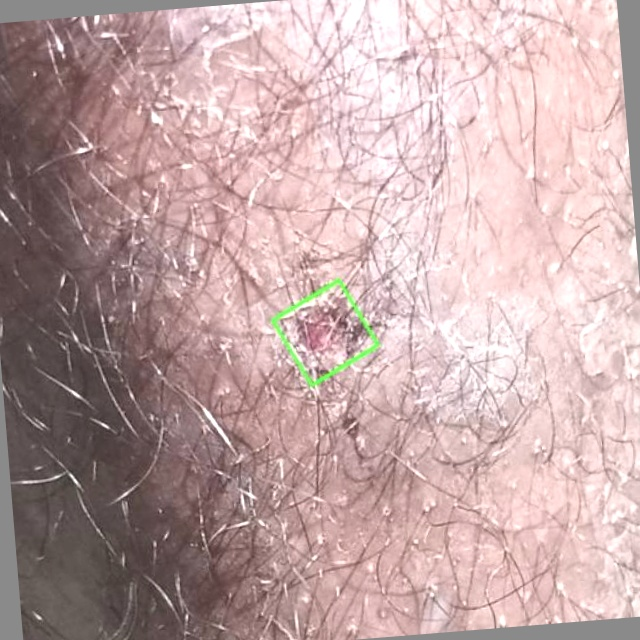Eczema: (272, 280, 377, 385)
